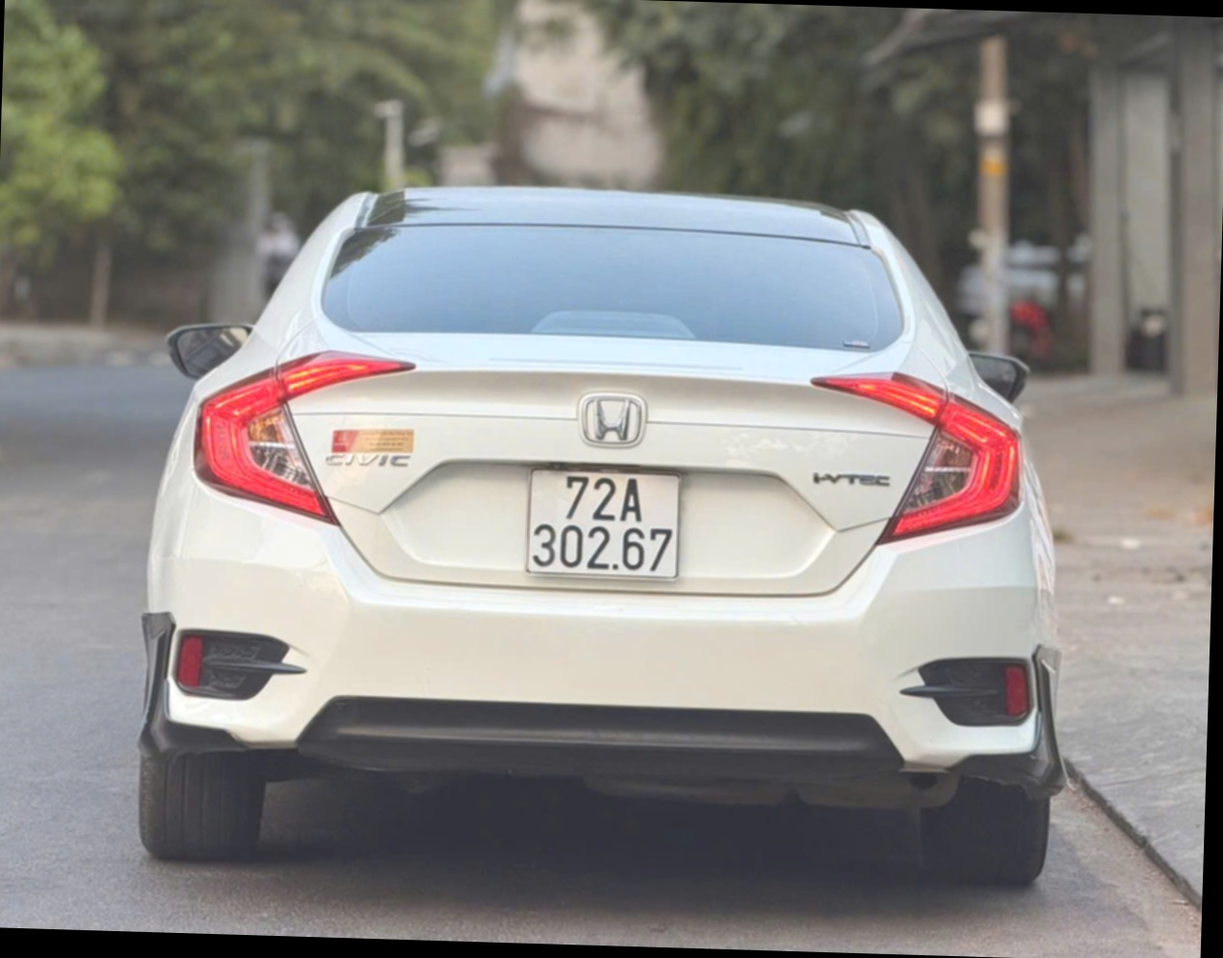Bien-so: (520, 464, 685, 588)
